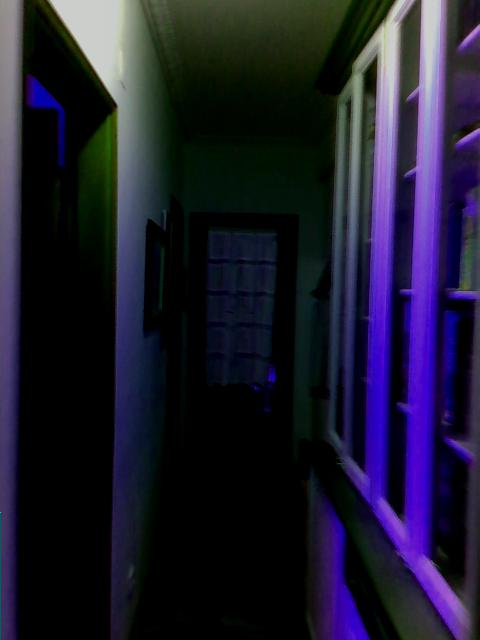closed_door: (186, 213, 299, 471)
